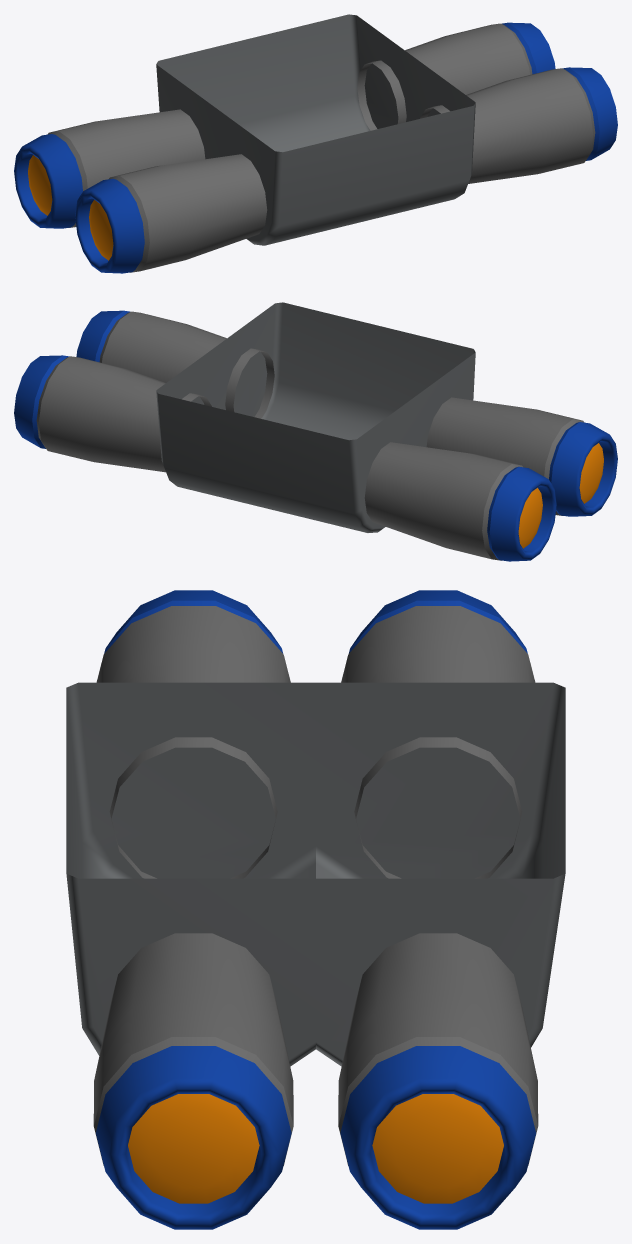
The model's file is Car_01_Turbine.fbx.
3 renders of one model, top to bottom at view 1: azimuth 30°, elevation 25°; view 2: azimuth 150°, elevation 25°; view 3: azimuth 270°, elevation 25°, orthographic. The views are drawn at different scales.
Parts seen in each view (by area): view 1: Car_01_Turbine; view 2: Car_01_Turbine; view 3: Car_01_Turbine.
Boxes of the visible parts, x1=… form: Car_01_Turbine: x1=14, y1=14, x2=617, y2=273; Car_01_Turbine: x1=14, y1=302, x2=617, y2=561; Car_01_Turbine: x1=66, y1=590, x2=565, y2=1229.
Size of the model in its own units: 192 by 82.21 by 41.29.
